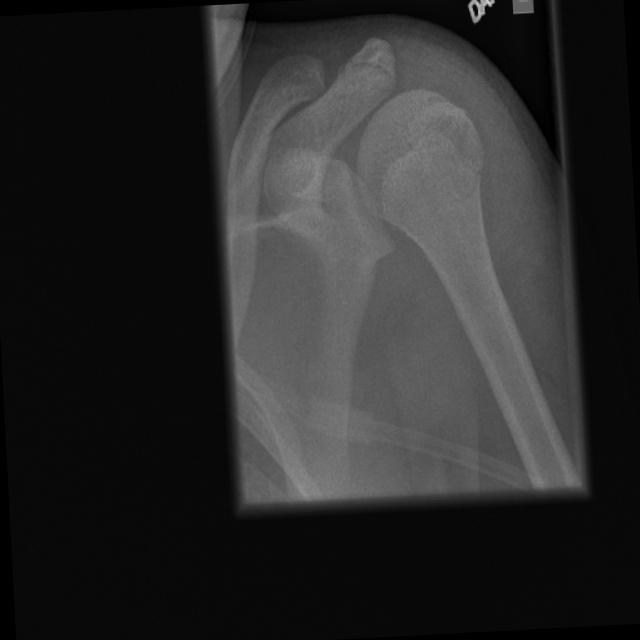shoulder fracture: (338, 27, 412, 94)
